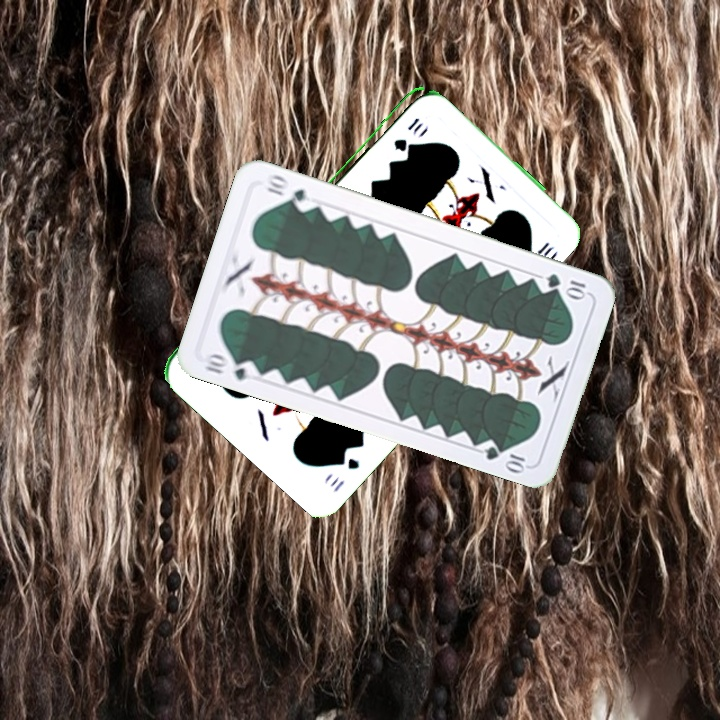G10: (200, 349, 260, 383), (327, 450, 362, 495), (541, 269, 590, 301), (389, 113, 422, 153)
